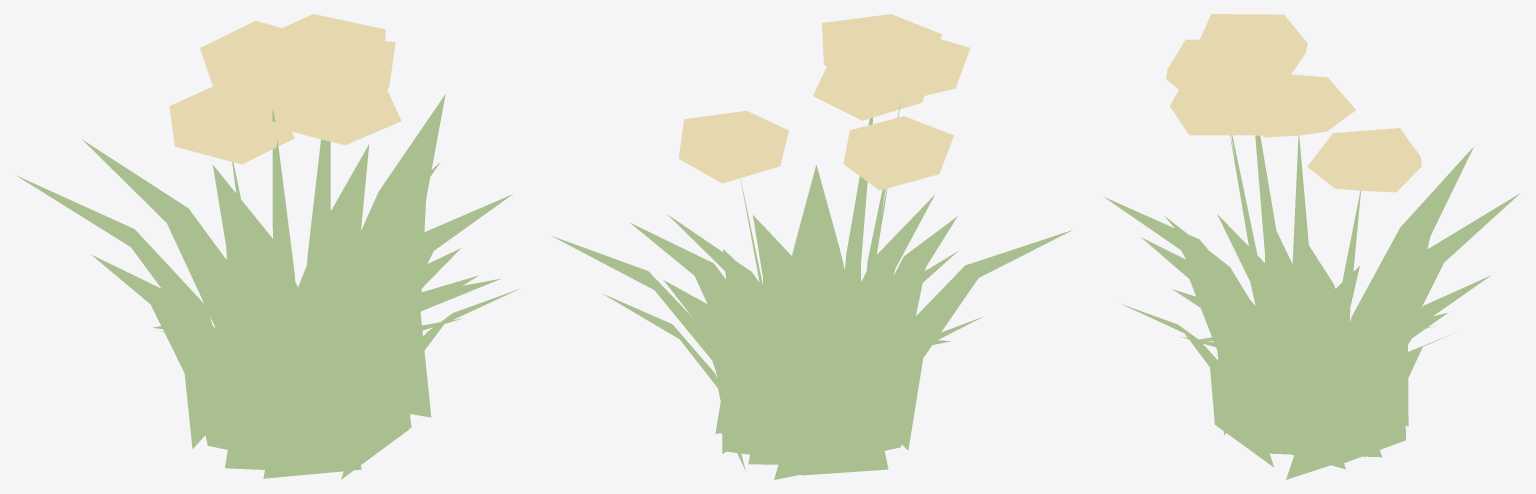
Rendered from Blender_Alpine_1.glb.
3 renders of one model, left to right at view 1: azimuth 30°, elevation 25°; view 2: azimuth 150°, elevation 25°; view 3: azimuth 270°, elevation 25°, orthographic. The views are drawn at different scales.
Visible parts, largest first — view 1: Blender_Alpine_1; view 2: Blender_Alpine_1; view 3: Blender_Alpine_1.
Part boxes in pixels (<box>): Blender_Alpine_1: <box>16,14,520,479</box>; Blender_Alpine_1: <box>552,14,1072,479</box>; Blender_Alpine_1: <box>1103,14,1520,479</box>.
Size of the model in its own units: 0.49 by 0.498 by 0.5008.
